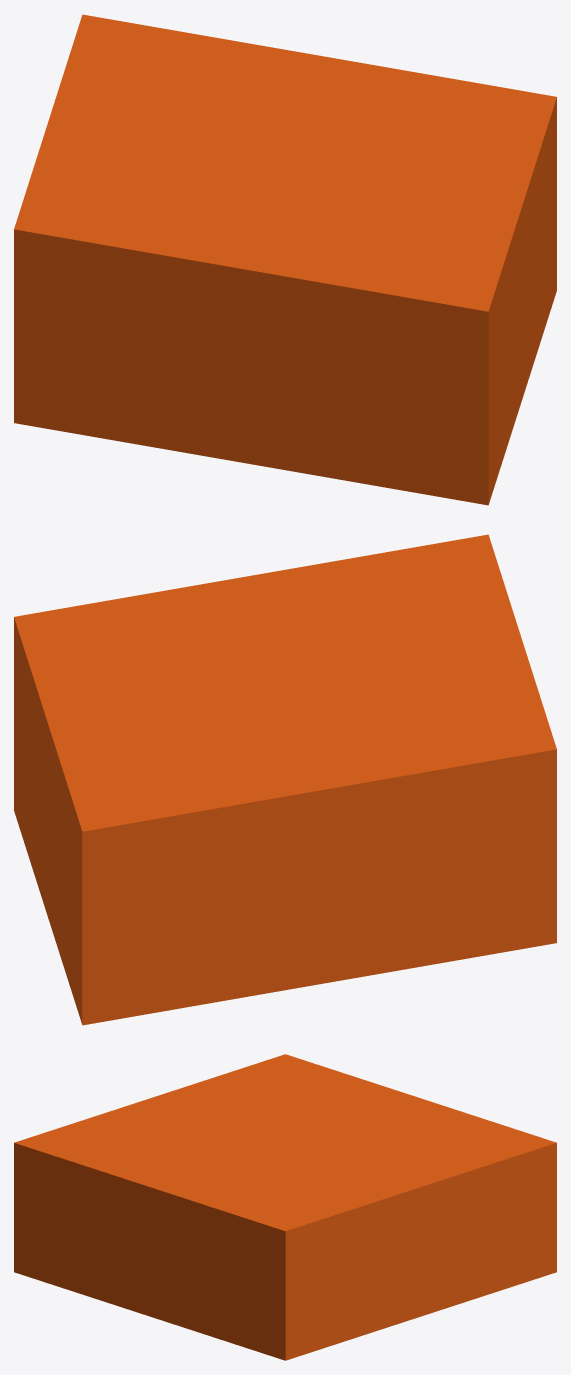
Rendered from losange_orange.dae.
The picture shows the model from 3 angles, top to bottom: view 1: azimuth 30°, elevation 25°; view 2: azimuth 150°, elevation 25°; view 3: azimuth 270°, elevation 25°; orthographic projection. The views are drawn at different scales.
Visible parts, largest first — view 1: Losange orange; view 2: Losange orange; view 3: Losange orange.
Part boxes in pixels (x1,y1,x2,y2): Losange orange: (14,14,556,505); Losange orange: (14,534,556,1025); Losange orange: (14,1054,556,1360).
Bounding box in the file's own units: 0.044 × 0.057 × 0.015.
